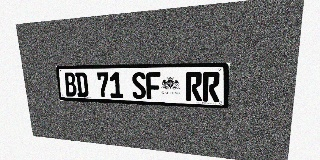1: (109, 72, 123, 98)
7: (96, 72, 110, 98)
B: (64, 72, 77, 97)
D: (75, 72, 89, 97)
F: (146, 72, 161, 100)
R: (202, 72, 220, 102), (186, 72, 202, 101)
S: (131, 72, 146, 99)
